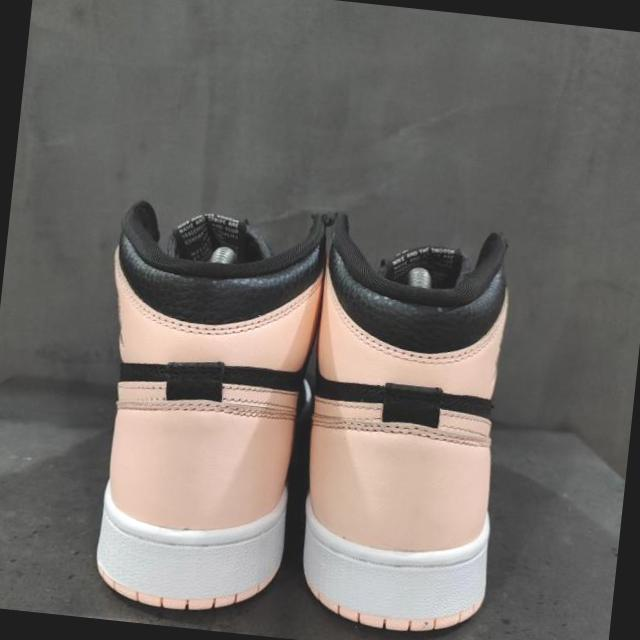nike_fake_jordan: (73, 196, 326, 631), (283, 212, 527, 640)
